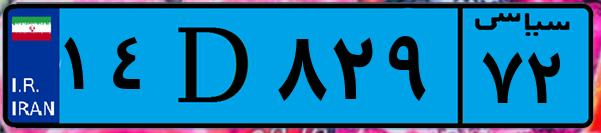1: (57, 26, 110, 100)
2: (330, 28, 385, 110), (525, 38, 570, 115)
4: (110, 28, 158, 98)
7: (475, 38, 525, 113)
8: (270, 28, 330, 110)
9: (385, 28, 445, 110)
D: (158, 12, 270, 120)
